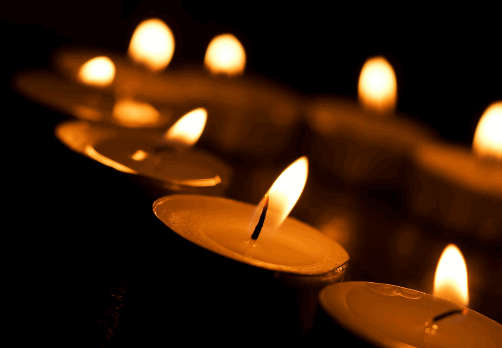Fire: (236, 148, 343, 247), (406, 230, 493, 323)
